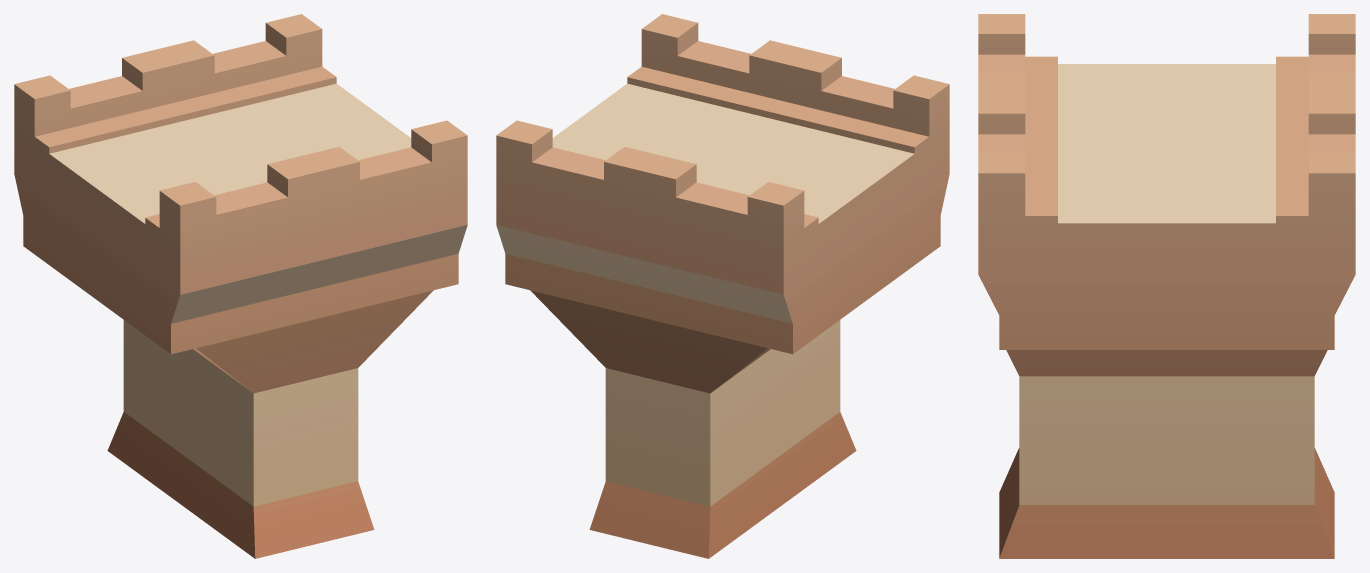
The model's file is bridge-straight-pillar.glb.
3 views of the same model, side by side, from view 1: azimuth 30°, elevation 25°; view 2: azimuth 150°, elevation 25°; view 3: azimuth 270°, elevation 25° (orthographic). The views are drawn at different scales.
Parts seen in each view (by area): view 1: bridge-straight-pillar; view 2: bridge-straight-pillar; view 3: bridge-straight-pillar.
Boxes of the visible parts, x1,y1,x2,y2 form: bridge-straight-pillar: [14, 14, 467, 558]; bridge-straight-pillar: [496, 14, 949, 558]; bridge-straight-pillar: [978, 14, 1355, 558].
Size of the model in its own units: 0.9301 by 1.18 by 0.9301.
1 material, 1 textured.
